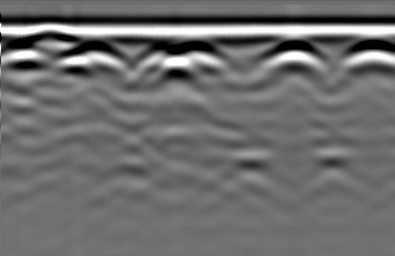pipe: (29, 23, 68, 39)
steel: (264, 44, 323, 72), (348, 42, 395, 73), (72, 39, 119, 69), (178, 44, 221, 72), (141, 45, 176, 67)
